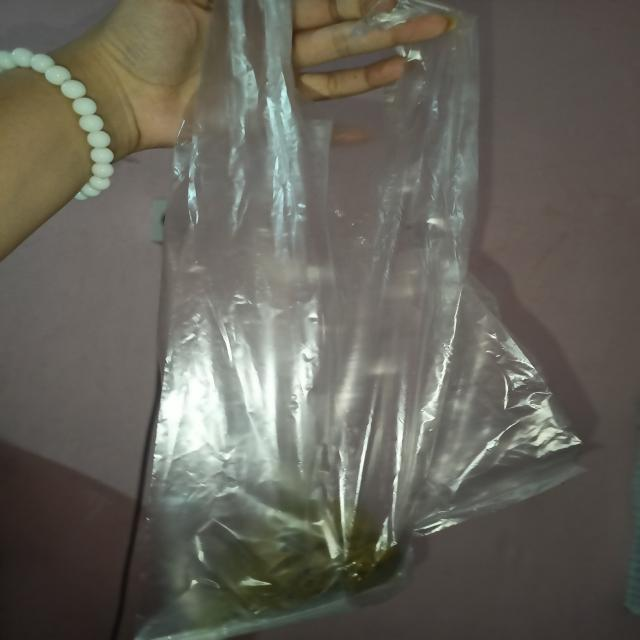plastic_bag: (31, 1, 613, 640)
